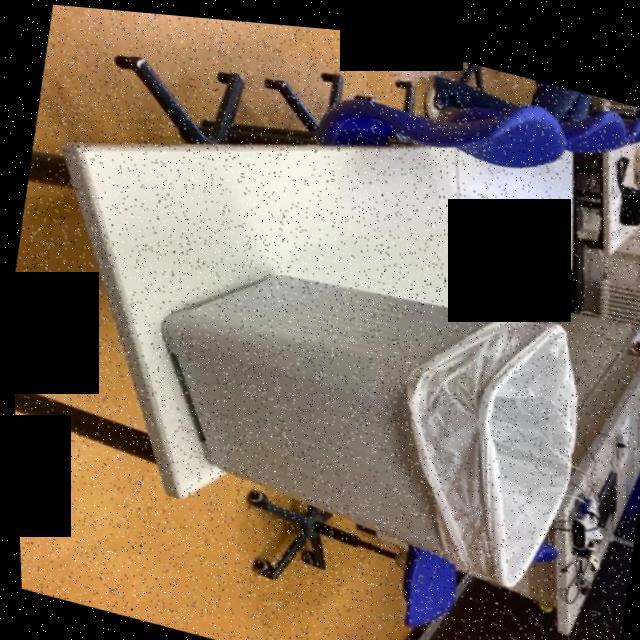bin: (102, 203, 632, 628)
